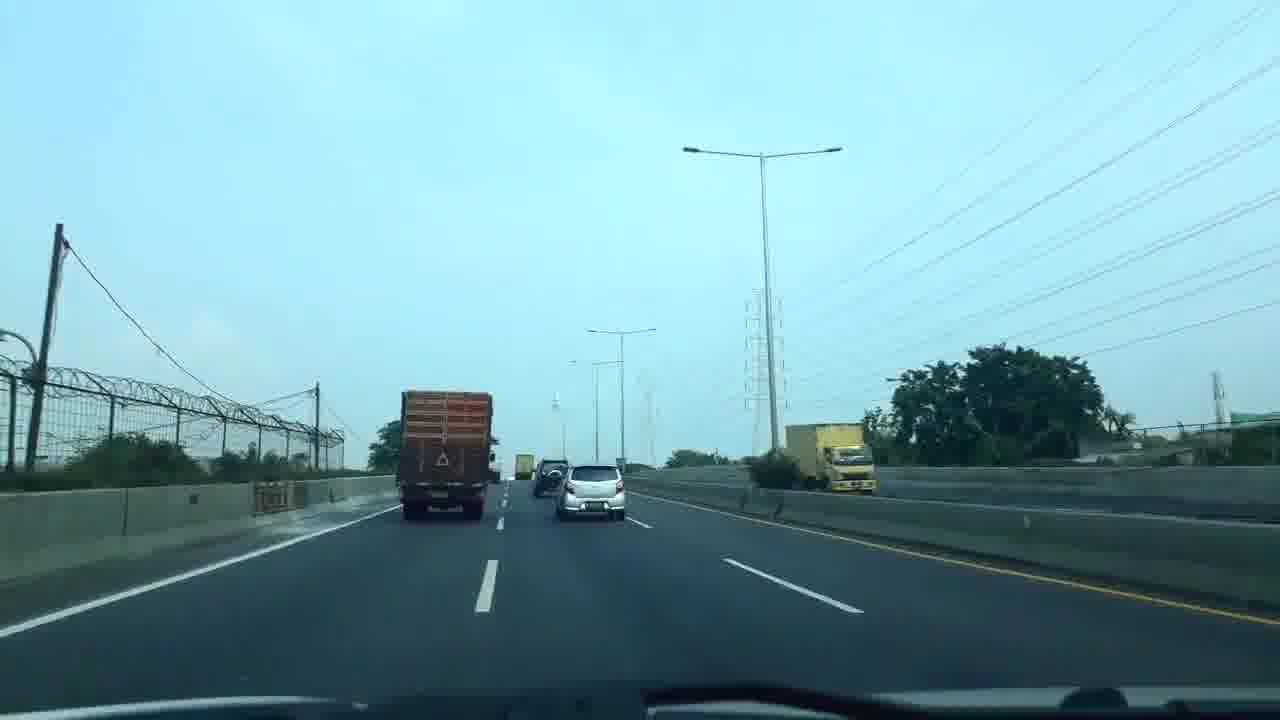plate_positive: (585, 502, 604, 510), (432, 492, 448, 498)
